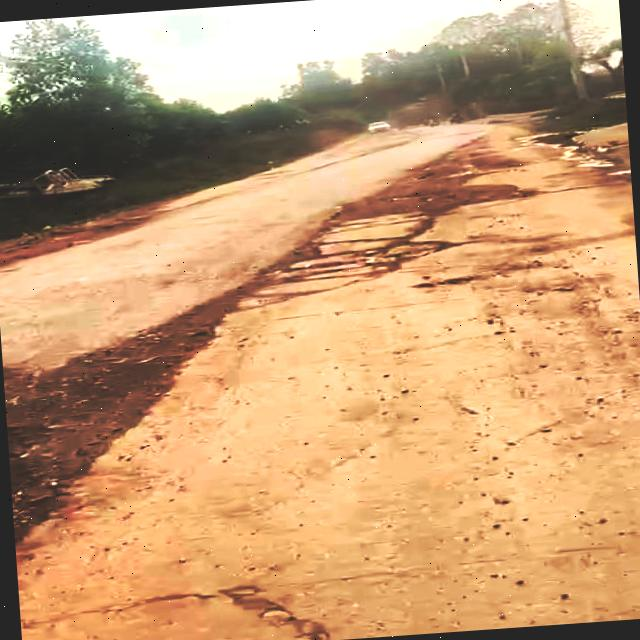pothole: (5, 394, 174, 549), (264, 226, 466, 294)
